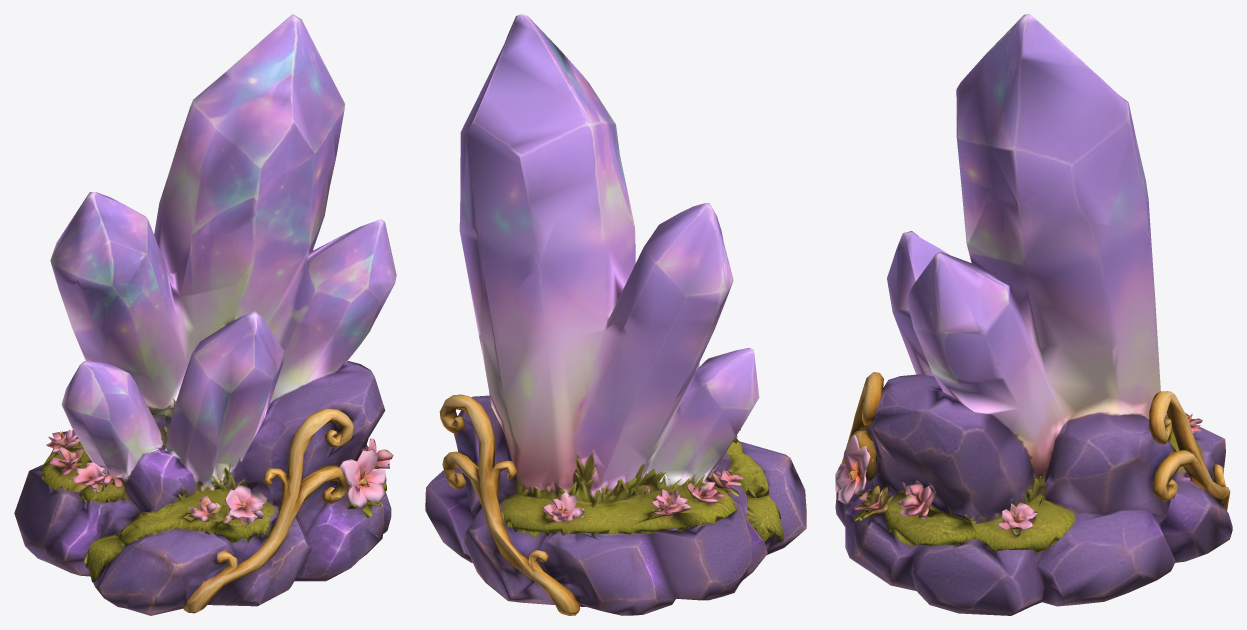
Rendered from crystals-a.high.glb.
3 views of the same model, side by side, from view 1: azimuth 30°, elevation 25°; view 2: azimuth 150°, elevation 25°; view 3: azimuth 270°, elevation 25° (orthographic). The views are drawn at different scales.
Visible parts, largest first — view 1: tripo_node_997e1ef2-0dbd-4a1f-8e74-62889ee384eb; view 2: tripo_node_997e1ef2-0dbd-4a1f-8e74-62889ee384eb; view 3: tripo_node_997e1ef2-0dbd-4a1f-8e74-62889ee384eb.
Boxes of the visible parts, x1=… form: tripo_node_997e1ef2-0dbd-4a1f-8e74-62889ee384eb: x1=14, y1=14, x2=396, y2=615; tripo_node_997e1ef2-0dbd-4a1f-8e74-62889ee384eb: x1=425, y1=14, x2=806, y2=615; tripo_node_997e1ef2-0dbd-4a1f-8e74-62889ee384eb: x1=835, y1=14, x2=1232, y2=615.
Bounding box in the file's own units: 0.9738 × 1.5 × 0.9469.
Materials: 1 (1 with a texture image).
